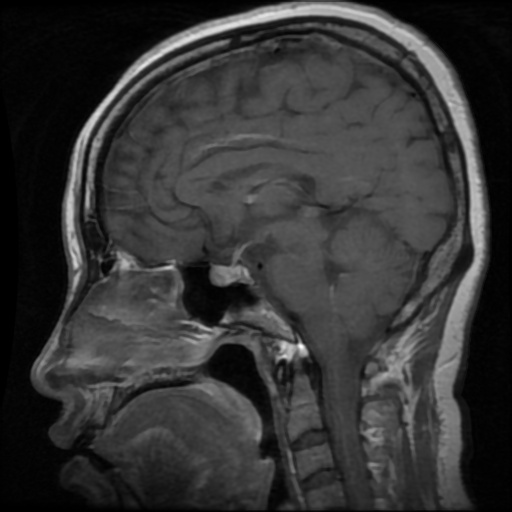pituitary: (209, 262, 250, 285)
